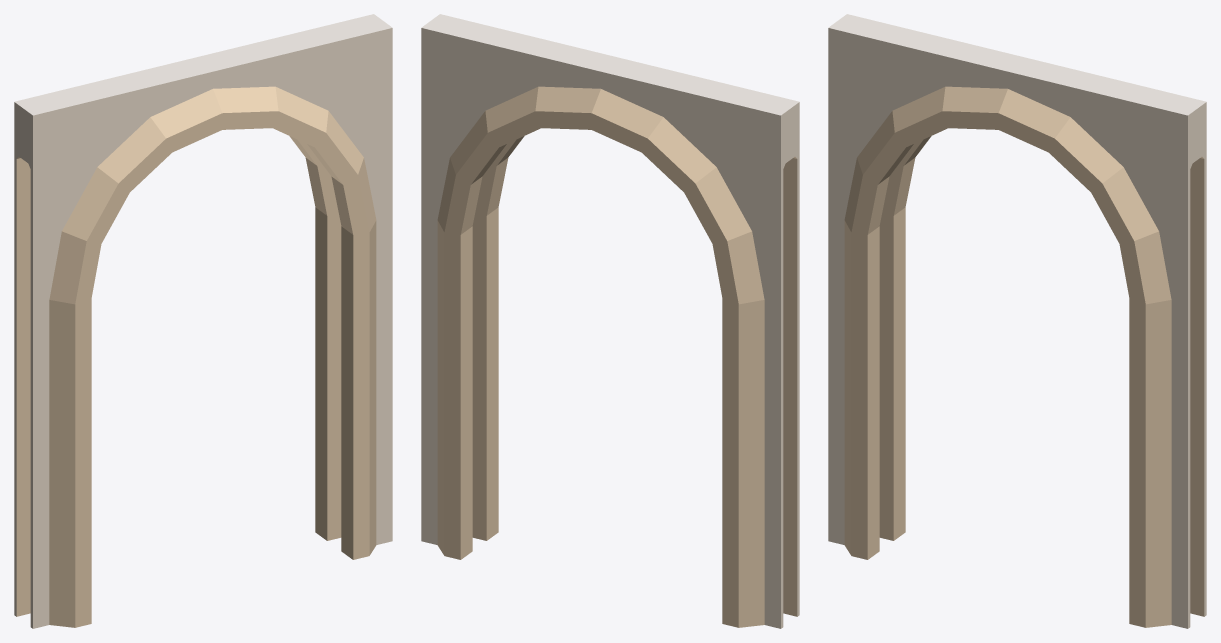
Rendered from temple_Wall_Straight_Doorway_Large_Pocket.glb.
3 views of the same model, side by side, from view 1: azimuth 30°, elevation 25°; view 2: azimuth 150°, elevation 25°; view 3: azimuth 330°, elevation 25° (orthographic).
Parts seen in each view (by area): view 1: object1; view 2: object1; view 3: object1.
Boxes of the visible parts, x1,y1,x2,y2 form: object1: (14,14,392,628); object1: (421,14,799,628); object1: (828,14,1206,628).
Size of the model in its own units: 2.2 by 3 by 0.4.
